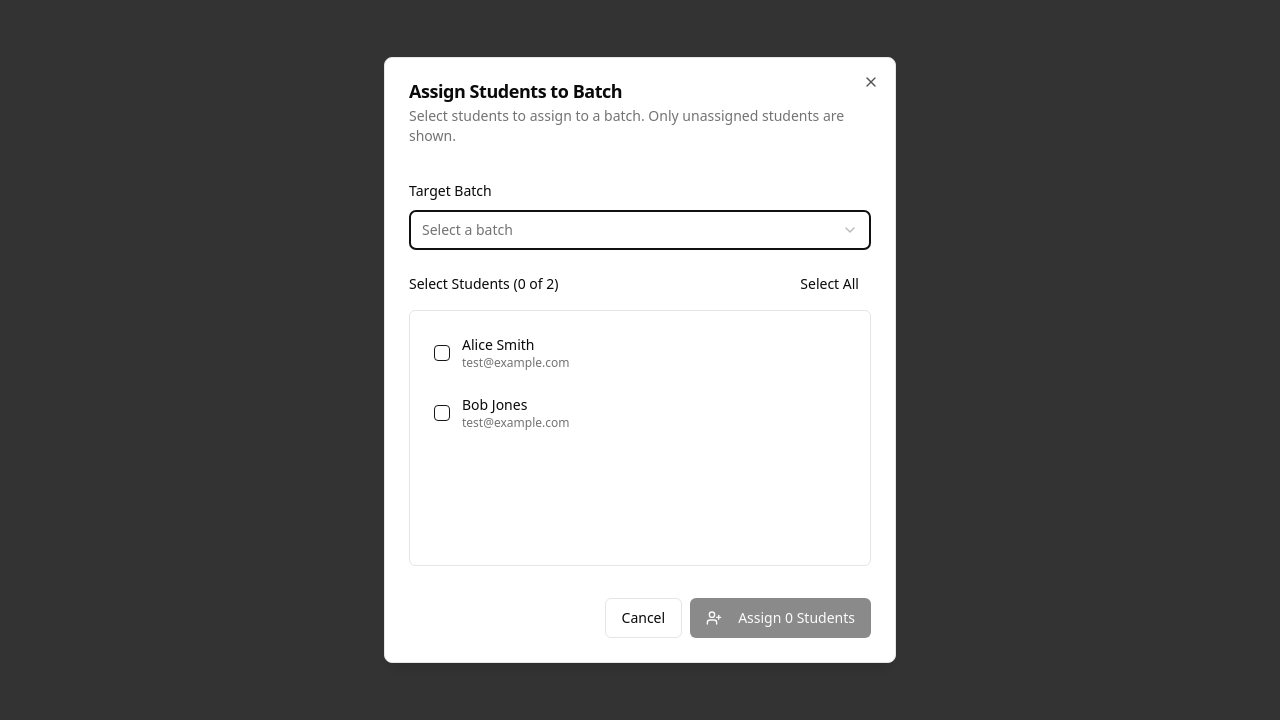
it: AssignStudentsDialog › button text › shows plural form for multiple students
This screenshot has width=1280, height=720.
Click the checkbox named "alice": [442, 353] box top-left (434, 345), bottom-right (450, 361)
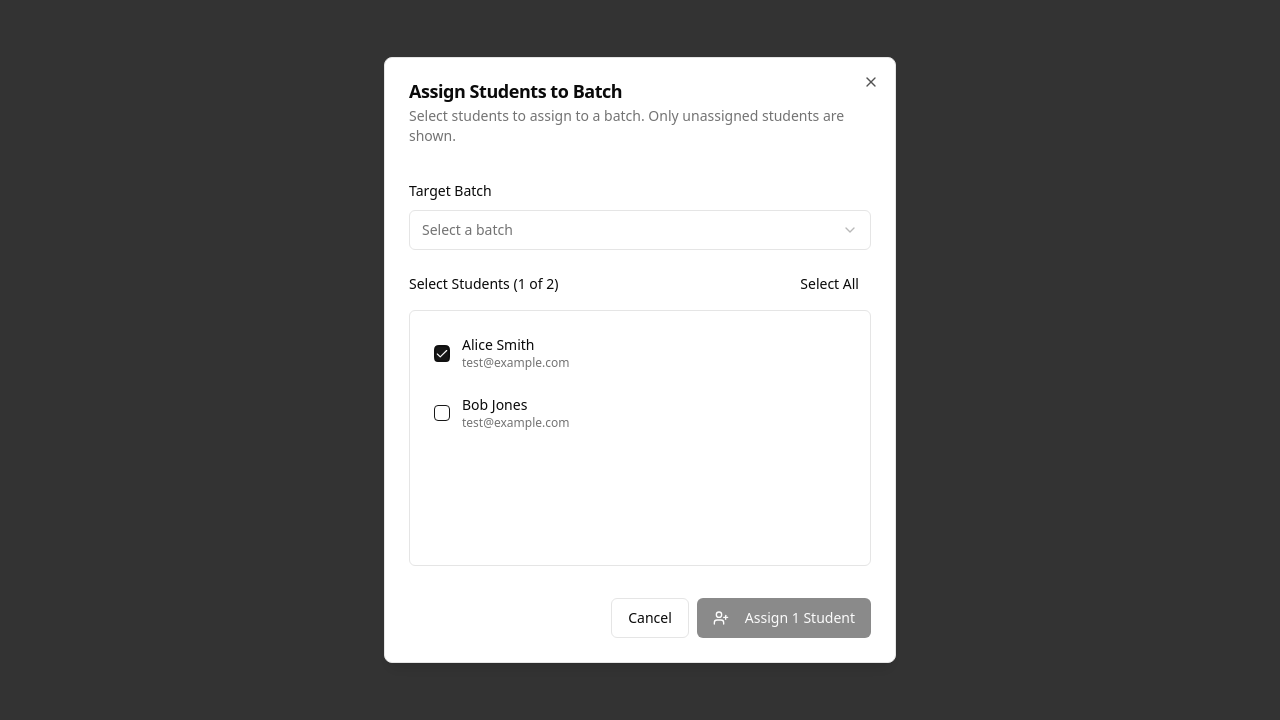
Click the checkbox named "bob": [442, 413] box top-left (434, 405), bottom-right (450, 421)
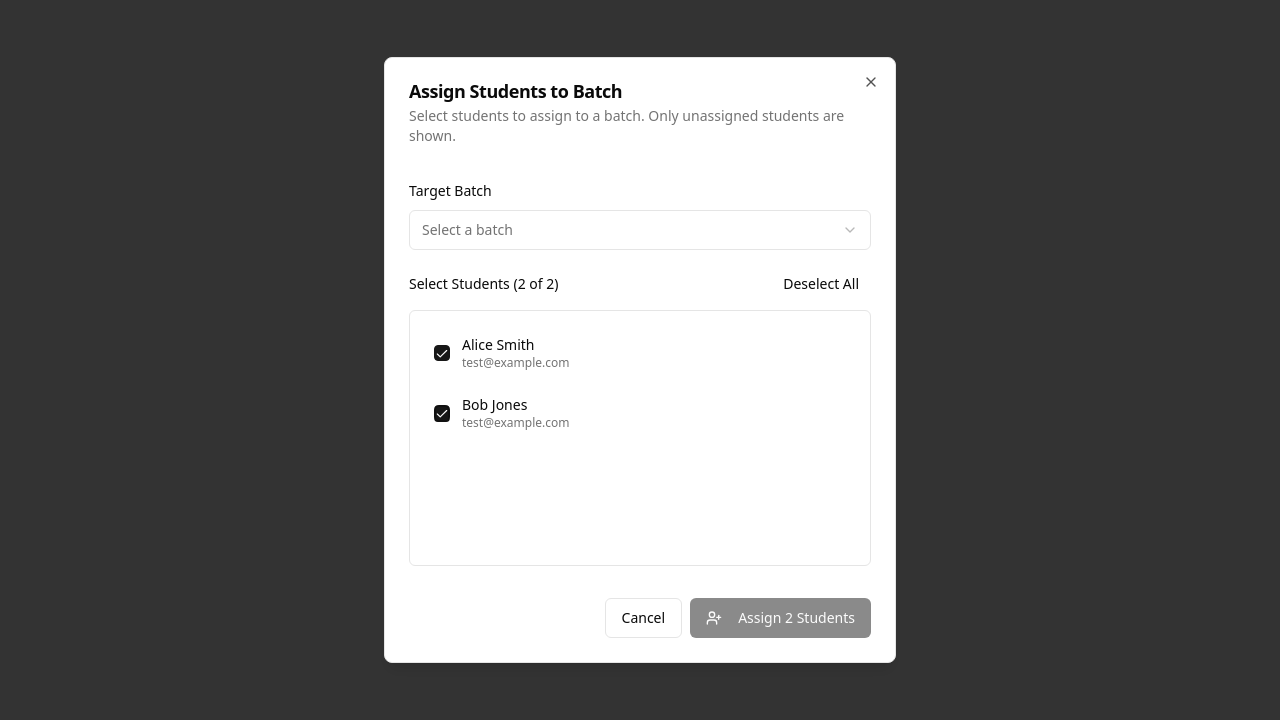
Now the button "Assign 2 Students" is shown, box top-left (690, 598), bottom-right (871, 638)
